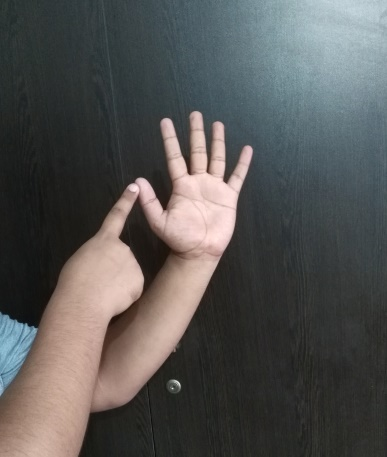a: (92, 110, 253, 297)
